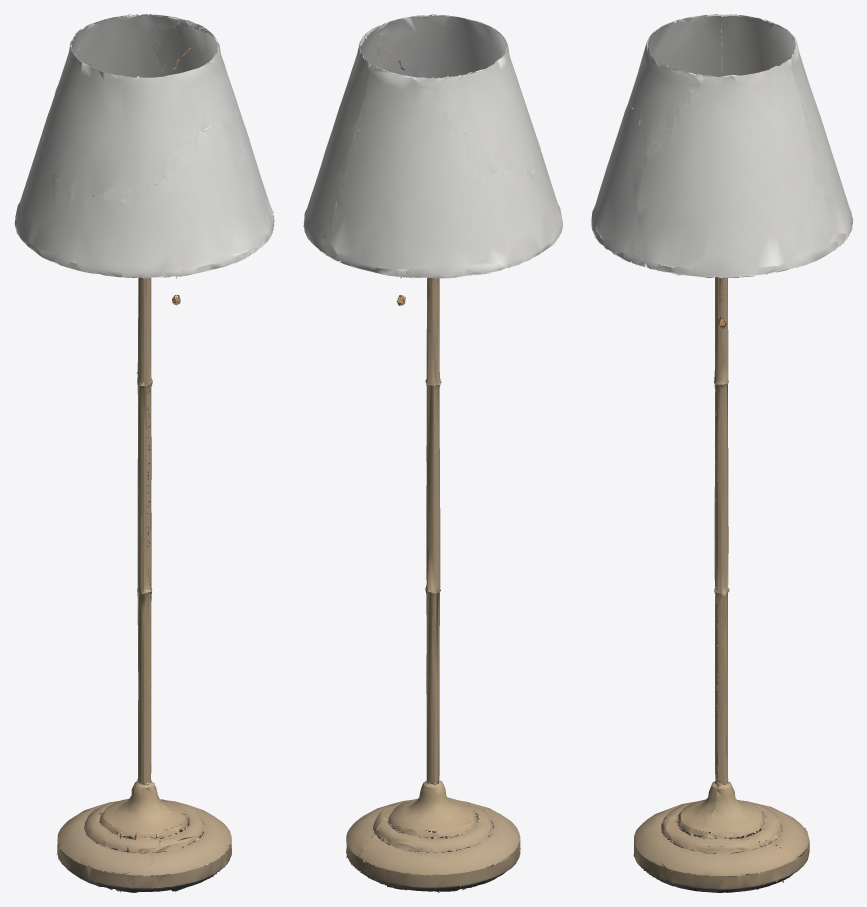
The model's file is ikea-arstid-floor-lamp-brass-white-60321324.glb.
3 views of the same model, side by side, from view 1: azimuth 30°, elevation 25°; view 2: azimuth 150°, elevation 25°; view 3: azimuth 270°, elevation 25° (orthographic).
Visible parts, largest first — view 1: model; view 2: model; view 3: model.
Part boxes in pixels (x1=…): model: x1=14, y1=14, x2=274, y2=892; model: x1=303, y1=14, x2=562, y2=892; model: x1=591, y1=14, x2=852, y2=892.
Bounding box in the file's own units: 0.5307 × 1.85 × 0.5351.
1 material, 1 textured.
